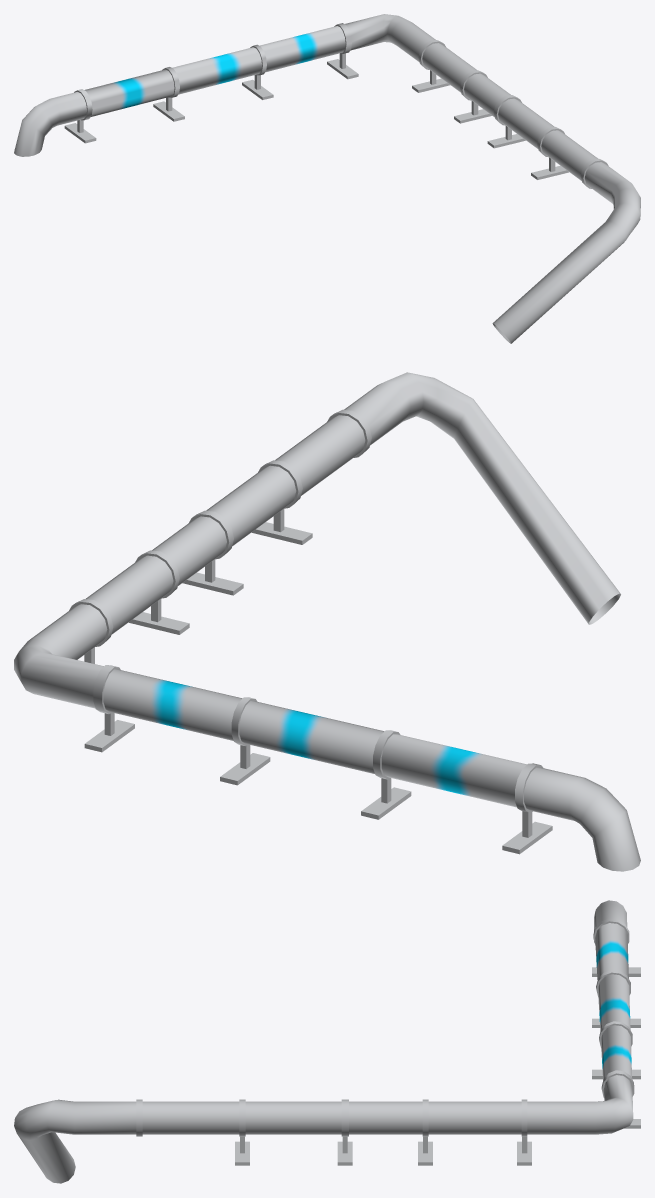
File: tuyau_angle02.fbx
3 views of the same model, one above another, from view 1: azimuth 30°, elevation 25°; view 2: azimuth 150°, elevation 25°; view 3: azimuth 270°, elevation 25° (orthographic). The views are drawn at different scales.
Parts seen in each view (by area): view 1: tuyau_angle02; view 2: tuyau_angle02; view 3: tuyau_angle02.
Boxes of the visible parts, x1,y1,x2,y2 form: tuyau_angle02: (14, 14, 640, 343); tuyau_angle02: (14, 372, 640, 871); tuyau_angle02: (14, 900, 640, 1183).
Size of the model in its own units: 569 by 175 by 654.
1 material, 1 textured.
